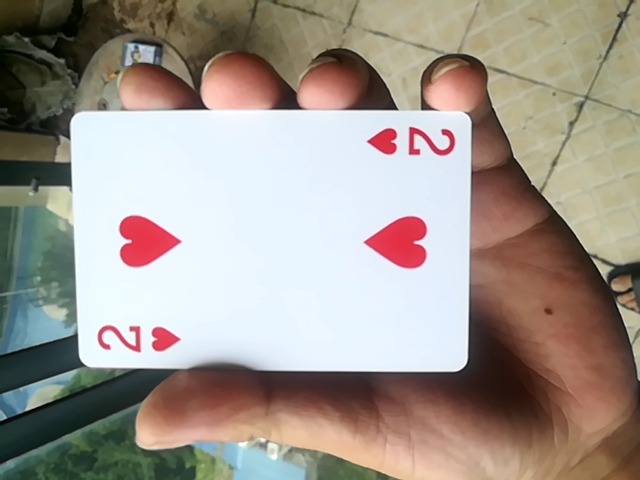hx 2: (64, 104, 476, 378)
